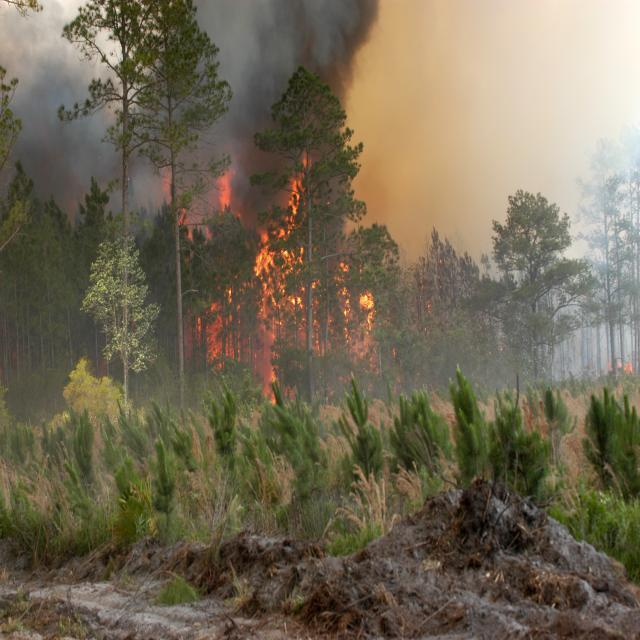Fire: (258, 218, 332, 333), (203, 287, 258, 392), (340, 262, 388, 354), (208, 168, 235, 216)
Smoke: (0, 0, 395, 211), (347, 11, 634, 264)
